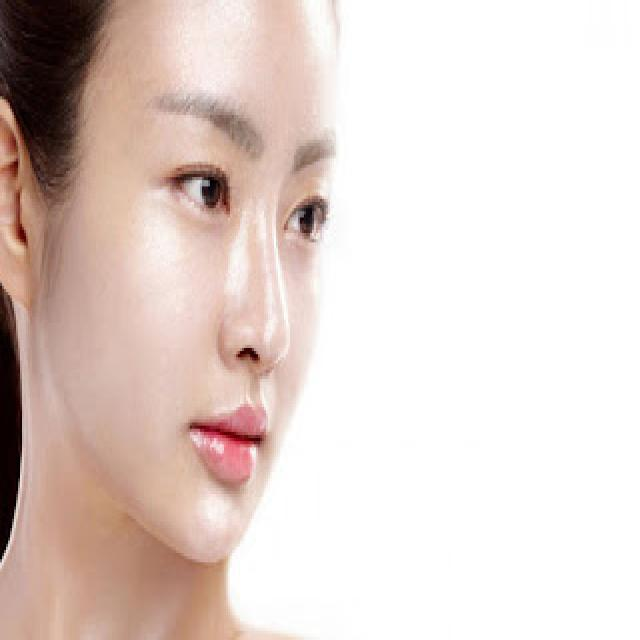Oily-Skin: (169, 5, 250, 97), (143, 200, 184, 316), (258, 189, 278, 365), (222, 200, 252, 304)
